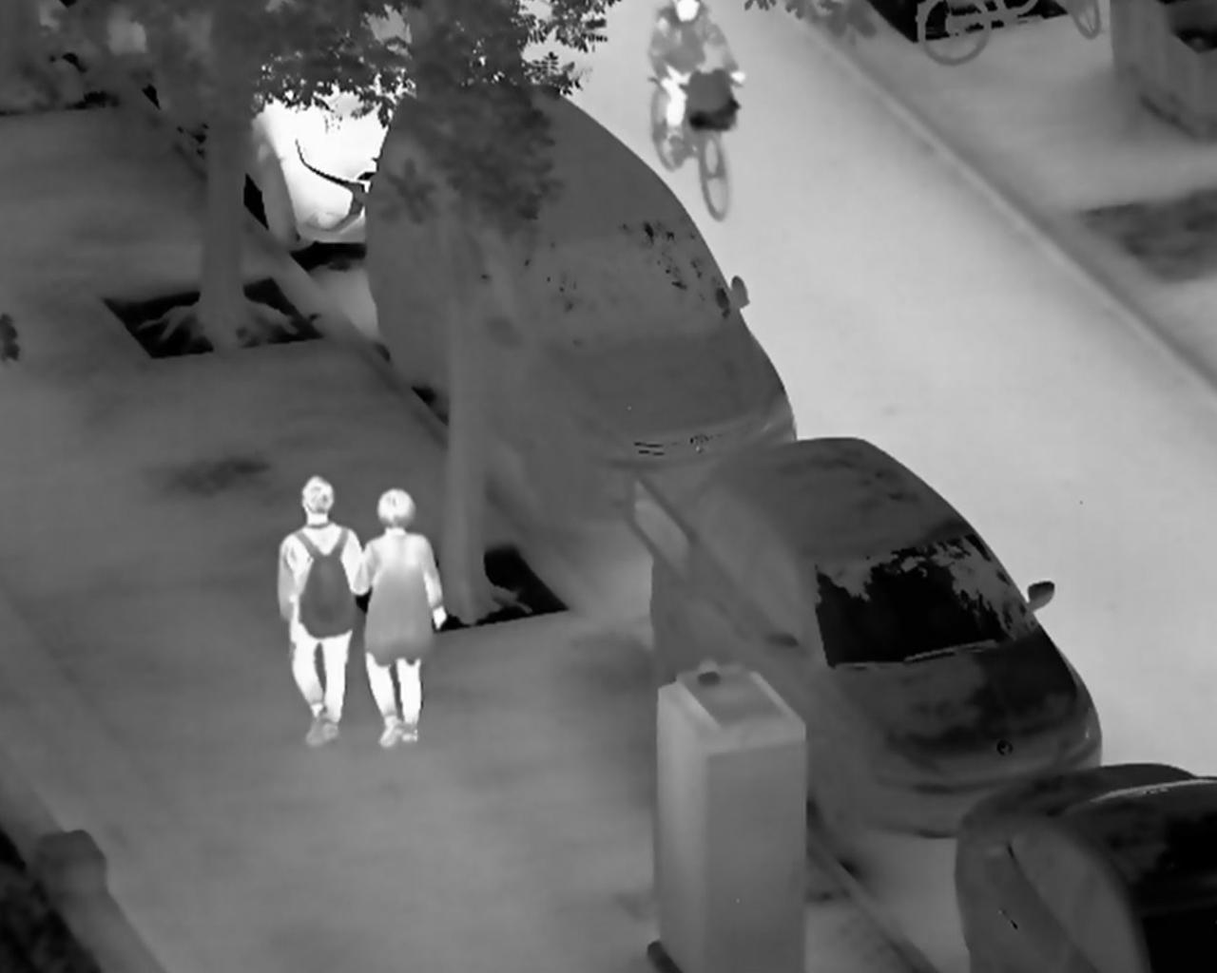person: (274, 474, 370, 751), (353, 486, 451, 749)
